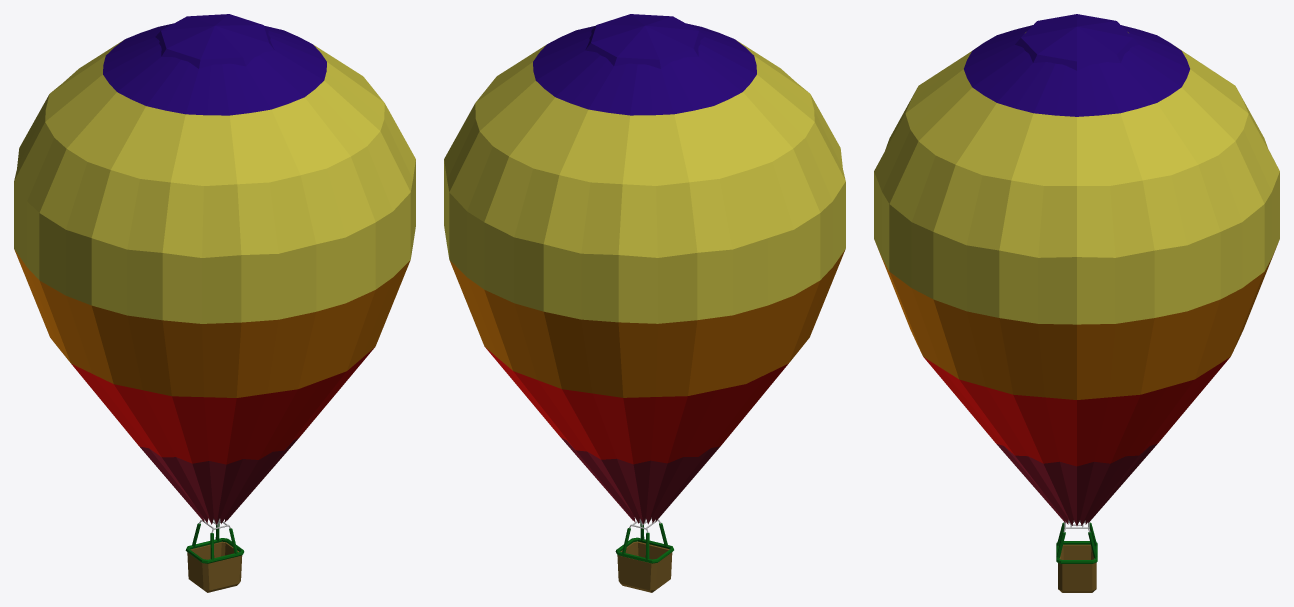
The model's file is balloon.fbx.
3 views of the same model, side by side, from view 1: azimuth 30°, elevation 25°; view 2: azimuth 150°, elevation 25°; view 3: azimuth 270°, elevation 25° (orthographic).
Visible parts, largest first — view 1: balloon; view 2: balloon; view 3: balloon.
Part boxes in pixels (x1=…): balloon: x1=14, y1=14, x2=415, y2=592; balloon: x1=444, y1=14, x2=845, y2=592; balloon: x1=874, y1=14, x2=1279, y2=592.
Size of the model in its own units: 11.85 by 11.85 by 18.01.
